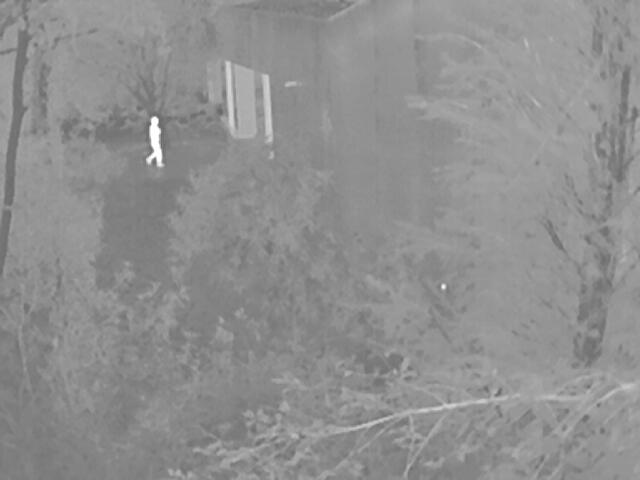person: (144, 115, 166, 167)
